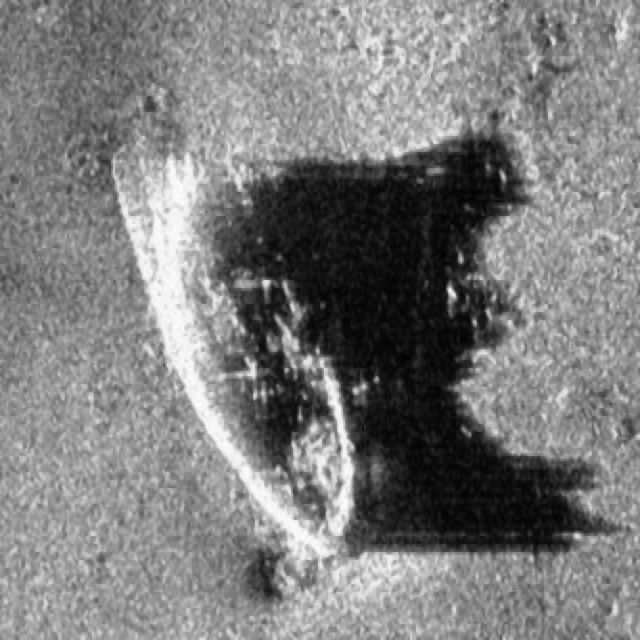Ship: (101, 83, 379, 593)
